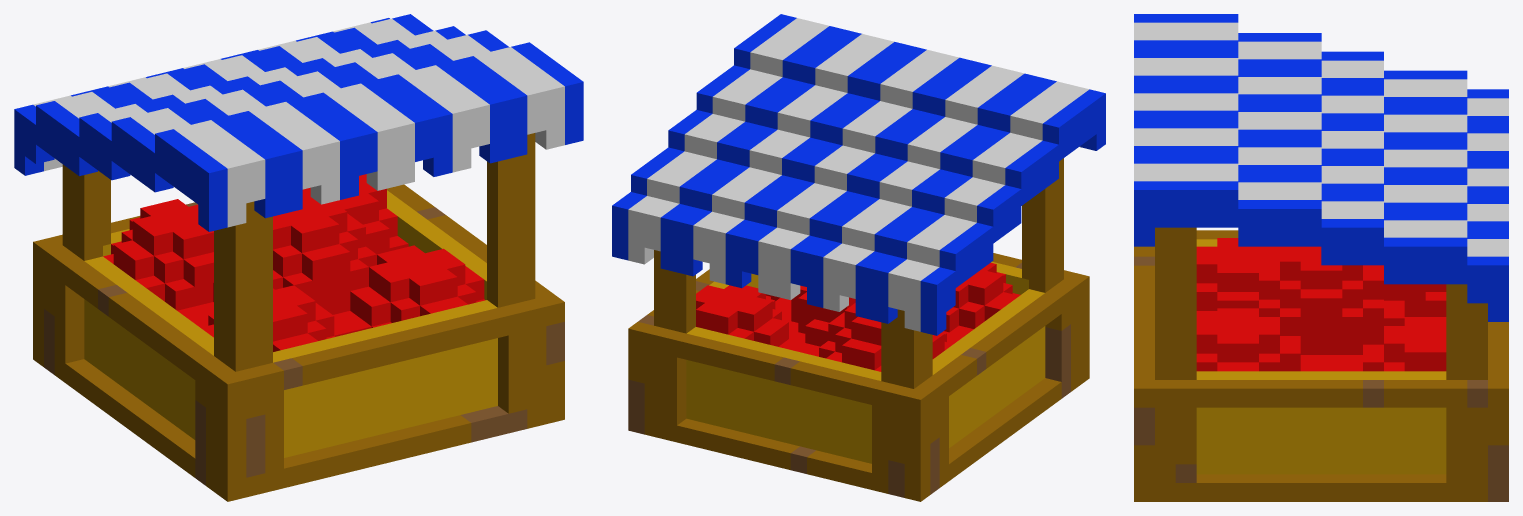
Rendered from Tomato Stand.obj.
3 renders of one model, left to right at view 1: azimuth 30°, elevation 25°; view 2: azimuth 150°, elevation 25°; view 3: azimuth 270°, elevation 25°, orthographic. The views are drawn at different scales.
Size of the model in its own units: 2 by 1.7 by 1.8.
1 material, 1 textured.
